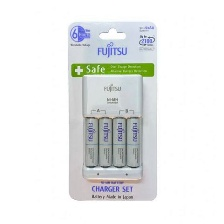battery: (124, 115, 142, 170), (96, 116, 114, 168), (111, 115, 127, 169), (84, 116, 100, 168)
book: (64, 19, 159, 204)
